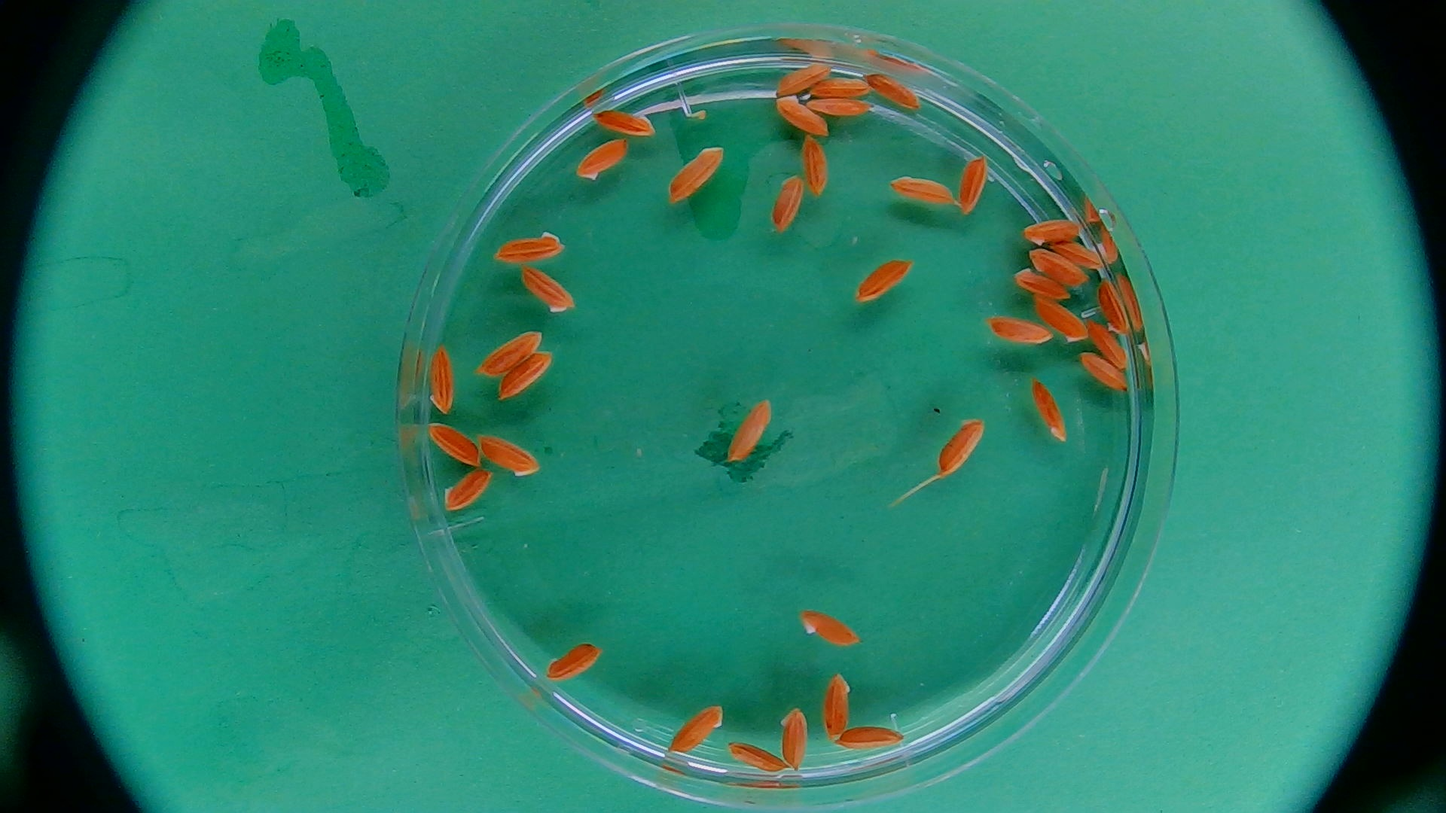no: (663, 143, 731, 205), (471, 429, 541, 482), (510, 263, 578, 314), (499, 344, 558, 401), (770, 87, 830, 142), (471, 331, 547, 374), (816, 672, 861, 744), (845, 257, 919, 300), (725, 397, 773, 462), (664, 708, 729, 756), (1094, 276, 1139, 344), (488, 226, 566, 264), (420, 347, 464, 414), (423, 420, 483, 469), (935, 419, 987, 475), (789, 134, 837, 194), (888, 171, 961, 209), (981, 316, 1058, 352), (432, 467, 496, 510), (868, 65, 923, 115), (1036, 294, 1091, 342), (542, 638, 604, 680), (575, 139, 634, 181), (1071, 349, 1130, 391), (1087, 312, 1129, 370), (592, 105, 657, 142), (796, 611, 859, 649), (1030, 378, 1066, 443), (1019, 214, 1089, 247), (772, 59, 834, 96), (1014, 266, 1075, 303), (808, 90, 876, 123), (957, 157, 991, 219), (728, 738, 784, 775), (842, 723, 902, 755), (805, 73, 878, 99), (781, 707, 810, 769), (772, 175, 806, 227)
